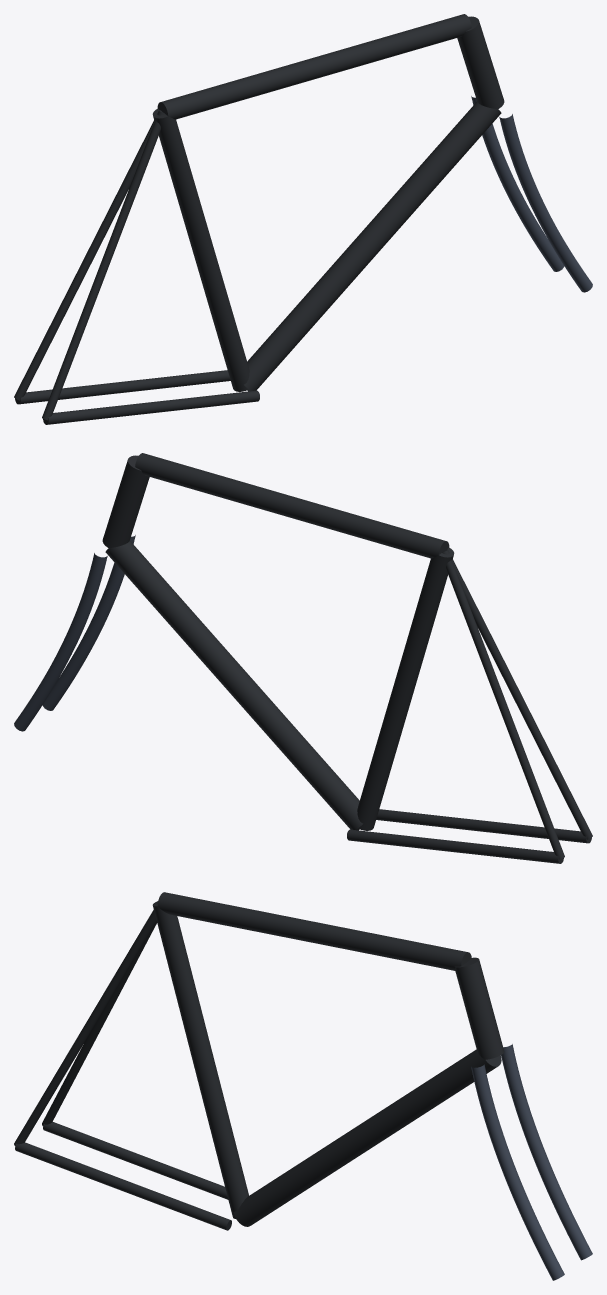
File: 8bar-krzberg-v8-l.glb
3 views of the same model, one above another, from view 1: azimuth 30°, elevation 25°; view 2: azimuth 150°, elevation 25°; view 3: azimuth 330°, elevation 25° (orthographic).
Visible parts, largest first — view 1: paint_down, paint_top, paint_seat, paint_seatstay_0.045, fork_0.045, paint_seatstay_-0.045, paint_chainstay_0.045, paint_chainstay_-0.045, paint_head, fork_-0.045; view 2: paint_down, paint_top, paint_seat, paint_seatstay_-0.045, fork_-0.045, paint_seatstay_0.045, paint_chainstay_-0.045, paint_chainstay_0.045, paint_head, fork_0.045; view 3: paint_down, paint_top, paint_seat, fork_0.045, fork_-0.045, paint_chainstay_0.045, paint_head, paint_seatstay_0.045, paint_chainstay_-0.045, paint_seatstay_-0.045.
Boxes of the visible parts, <box> form: paint_down: <box>244,101,501,391</box>; paint_top: <box>157,14,471,119</box>; paint_seat: <box>152,108,249,391</box>; paint_seatstay_0.045: <box>42,111,164,420</box>; fork_0.045: <box>499,114,592,292</box>; paint_seatstay_-0.045: <box>14,110,161,400</box>; paint_chainstay_0.045: <box>43,390,259,424</box>; paint_chainstay_-0.045: <box>15,370,230,404</box>; paint_head: <box>457,16,504,108</box>; fork_-0.045: <box>471,96,564,271</box>; paint_down: <box>105,540,362,830</box>; paint_top: <box>135,453,449,558</box>; paint_seat: <box>357,547,454,830</box>; paint_seatstay_-0.045: <box>442,550,564,859</box>; fork_-0.045: <box>14,553,107,731</box>; paint_seatstay_0.045: <box>445,549,592,839</box>; paint_chainstay_-0.045: <box>347,829,563,863</box>; paint_chainstay_0.045: <box>376,809,591,843</box>; paint_head: <box>102,455,149,547</box>; fork_0.045: <box>42,535,135,710</box>; paint_down: <box>233,1049,501,1226</box>; paint_top: <box>157,892,471,970</box>; paint_seat: <box>152,901,248,1218</box>; fork_0.045: <box>471,1064,564,1280</box>; fork_-0.045: <box>501,1044,592,1260</box>; paint_chainstay_0.045: <box>15,1142,231,1230</box>; paint_head: <box>455,957,504,1059</box>; paint_seatstay_0.045: <box>14,910,156,1145</box>; paint_chainstay_-0.045: <box>43,1122,228,1199</box>; paint_seatstay_-0.045: <box>42,921,156,1126</box>.
Bounding box in the file's own units: 1.02 × 0.577 × 0.112.
